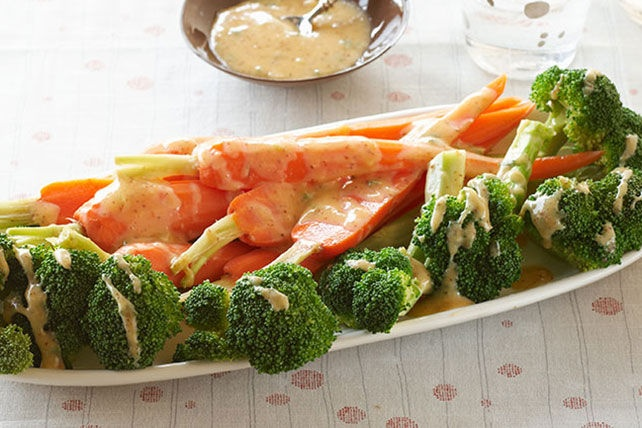background: (163, 0, 371, 53)
